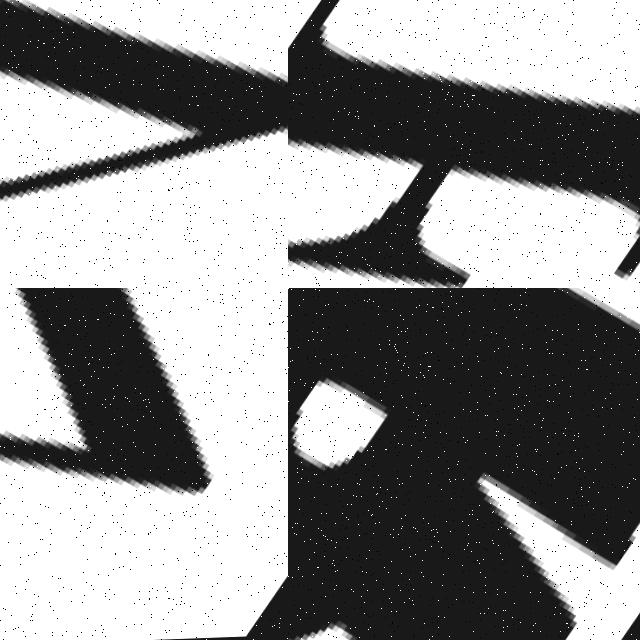F: (288, 0, 640, 288)
N: (0, 288, 288, 640)
R: (288, 288, 640, 640)
V: (0, 0, 288, 288)
